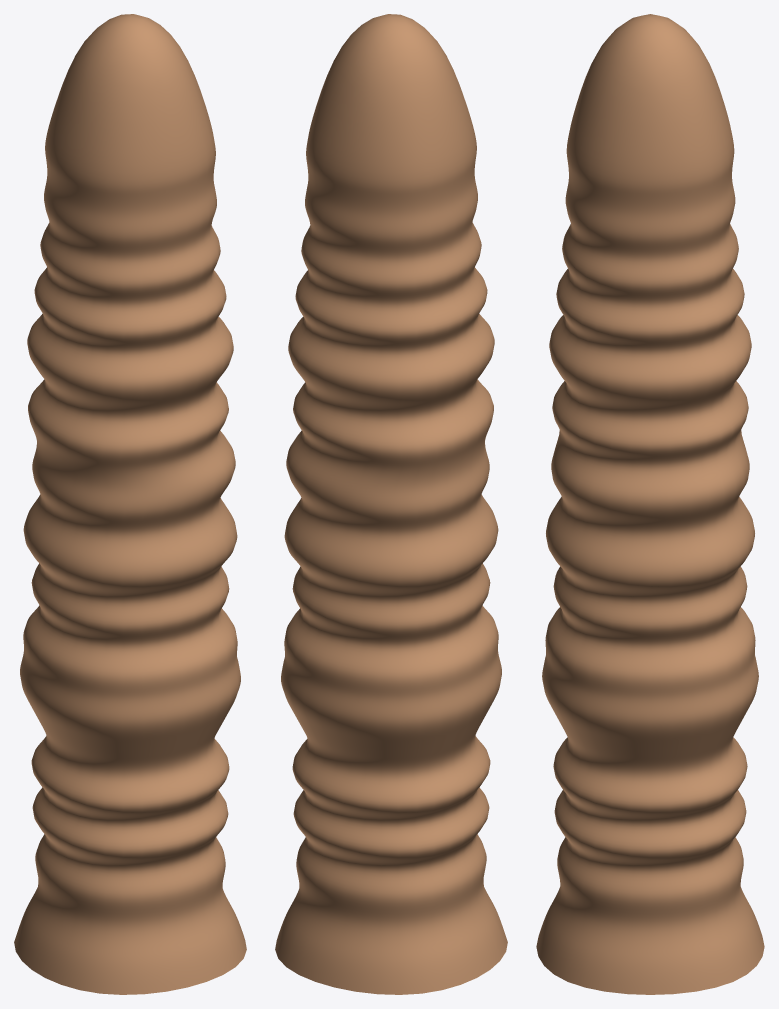
3 views of the same model, side by side, from view 1: azimuth 30°, elevation 25°; view 2: azimuth 150°, elevation 25°; view 3: azimuth 270°, elevation 25° (orthographic).
Parts seen in each view (by area): view 1: Stalagmite2; view 2: Stalagmite2; view 3: Stalagmite2.
Boxes of the visible parts, x1,y1,x2,y2 form: Stalagmite2: [14, 14, 246, 994]; Stalagmite2: [275, 14, 507, 994]; Stalagmite2: [536, 14, 764, 994].
Size of the model in its own units: 51.19 by 230 by 51.19.
